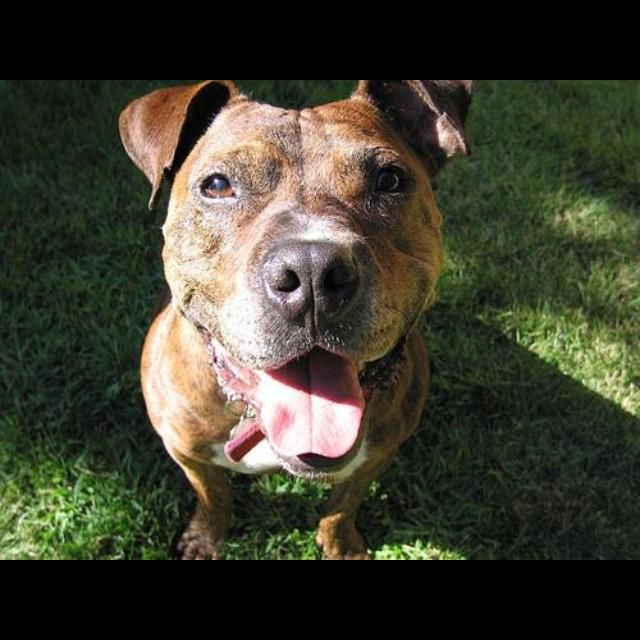amstaff: (118, 81, 477, 559)
